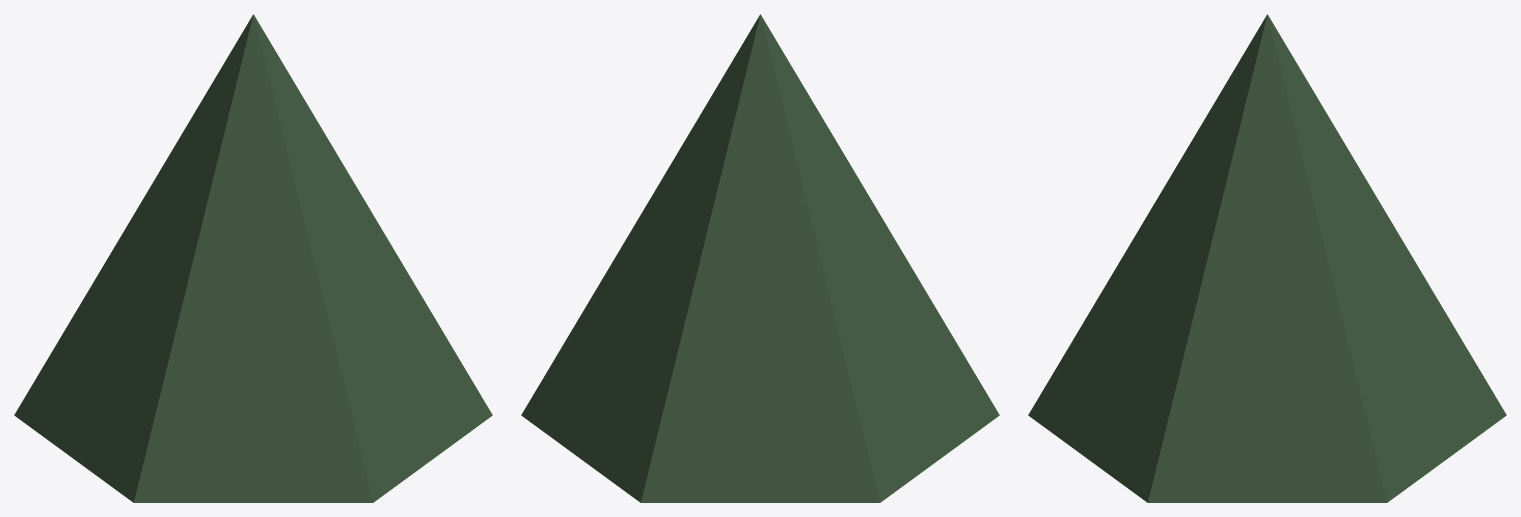
Rendered from nature_pine_c_lod2.glb.
3 renders of one model, left to right at view 1: azimuth 30°, elevation 25°; view 2: azimuth 150°, elevation 25°; view 3: azimuth 270°, elevation 25°, orthographic.
Visible parts, largest first — view 1: nature_pine_c_lod2; view 2: nature_pine_c_lod2; view 3: nature_pine_c_lod2.
Boxes of the visible parts, x1,y1,x2,y2 form: nature_pine_c_lod2: [14, 14, 492, 502]; nature_pine_c_lod2: [521, 14, 999, 502]; nature_pine_c_lod2: [1028, 14, 1506, 502].
Bounding box in the file's own units: 3.81 × 4.07 × 4.4.
